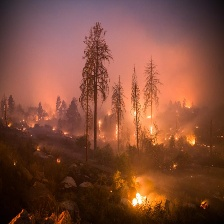fire: (133, 191, 149, 208), (113, 122, 125, 142), (19, 119, 34, 131), (187, 134, 198, 149), (168, 161, 182, 170), (149, 125, 158, 137), (97, 121, 106, 132), (184, 104, 194, 113), (147, 112, 156, 121), (55, 158, 66, 165), (63, 130, 71, 138), (133, 111, 139, 118), (50, 126, 56, 132), (7, 122, 12, 128)
smoke: (1, 6, 224, 111)
